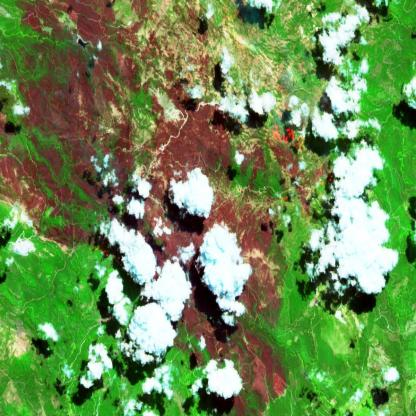fire: (269, 118, 309, 153), (85, 236, 113, 266), (302, 199, 313, 227), (282, 192, 296, 209), (325, 168, 337, 186)
